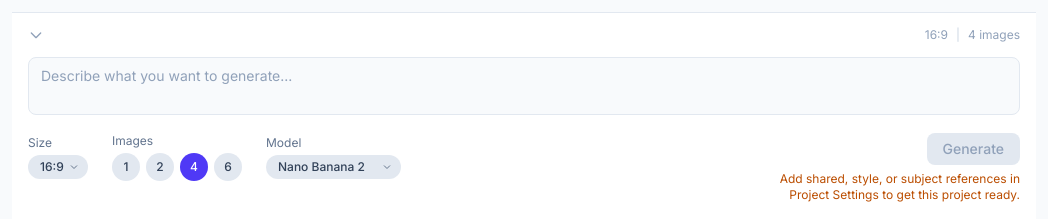
Drawer integration › Collapsed state shows summary of current settings › shows truncated prompt text in collapsed bar when prompt is entered
This screenshot has width=1048, height=219.
Step 1. Type "A beautiful sunset over the ocean" into the text box with test id "prompt-textarea" → {"x": 524, "y": 86}, box top-left (28, 57), bottom-right (1020, 115)
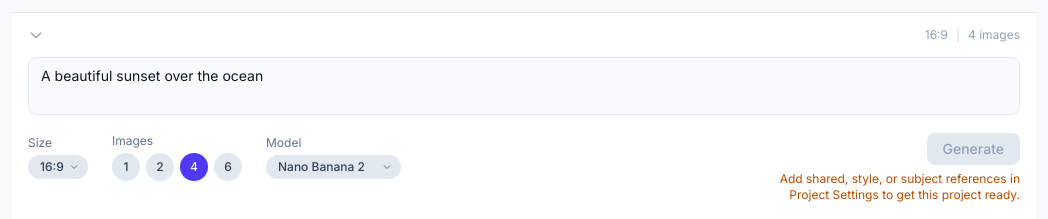
# Collapse the drawer
Step 2. Click the button with test id "drawer-collapsed-bar" → {"x": 994, "y": 34}, box top-left (12, 13), bottom-right (1036, 57)
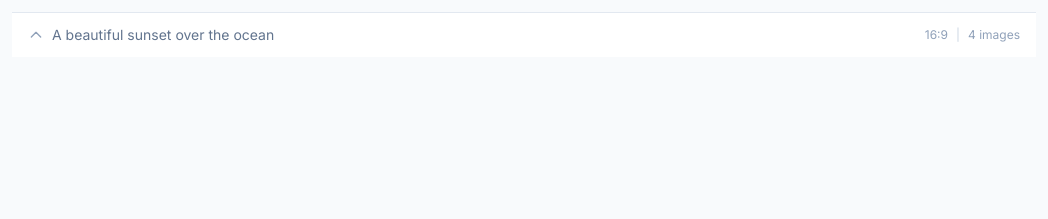
Result: the button with test id "drawer-collapsed-bar" shows "A beautiful sunset over the ocean" at top-left (12, 13), bottom-right (1036, 57)
